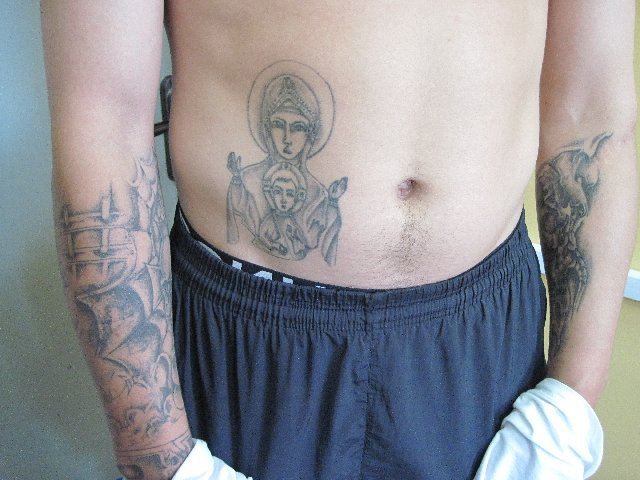tatu2_bogorodica: (216, 61, 361, 271)
